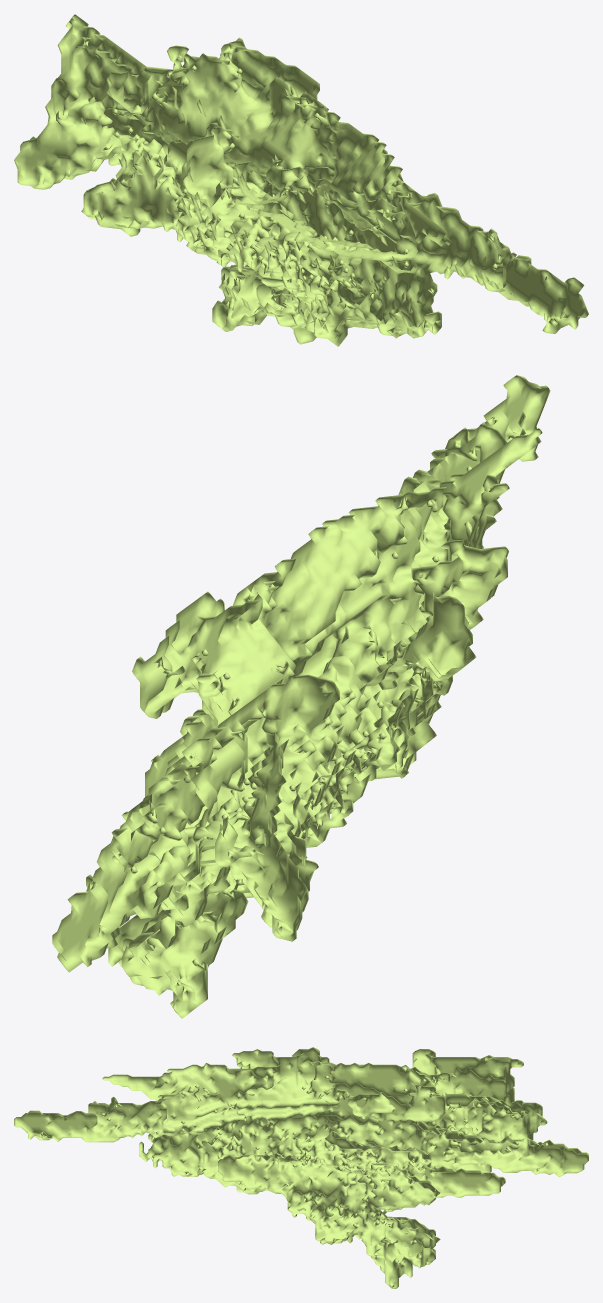
File: osteocyte_96.glb
3 renders of one model, top to bottom at view 1: azimuth 30°, elevation 25°; view 2: azimuth 150°, elevation 25°; view 3: azimuth 270°, elevation 25°, orthographic. The views are drawn at different scales.
Visible parts, largest first — view 1: osteocyte_96; view 2: osteocyte_96; view 3: osteocyte_96.
Boxes of the visible parts, left/top/right/bottom form: osteocyte_96: left=14, top=14, right=588, bottom=346; osteocyte_96: left=52, top=375, right=550, bottom=1018; osteocyte_96: left=14, top=1047, right=588, bottom=1288.
Bounding box in the file's own units: 17.33 × 21.18 × 59.7.
